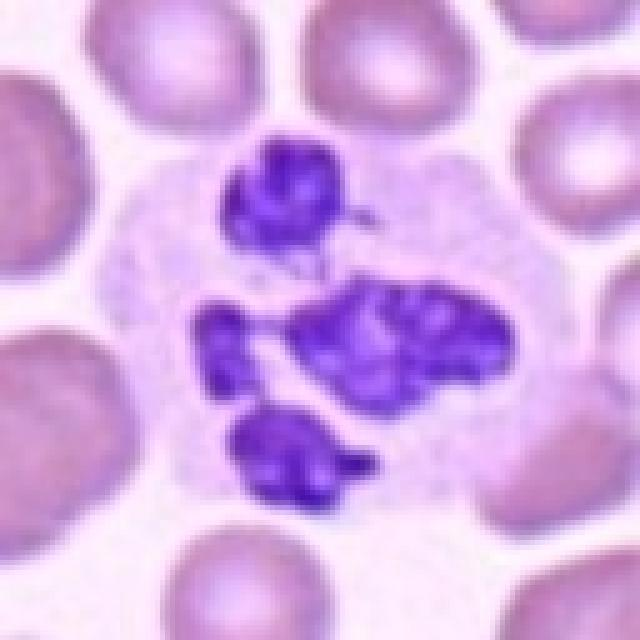neutro: (130, 49, 538, 542)
